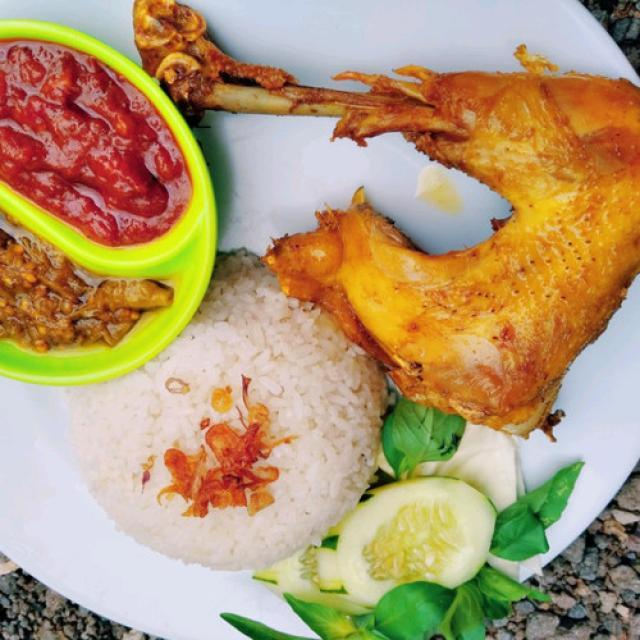ayam_goreng: (136, 2, 639, 250)
nasi_putih: (79, 284, 381, 562)
